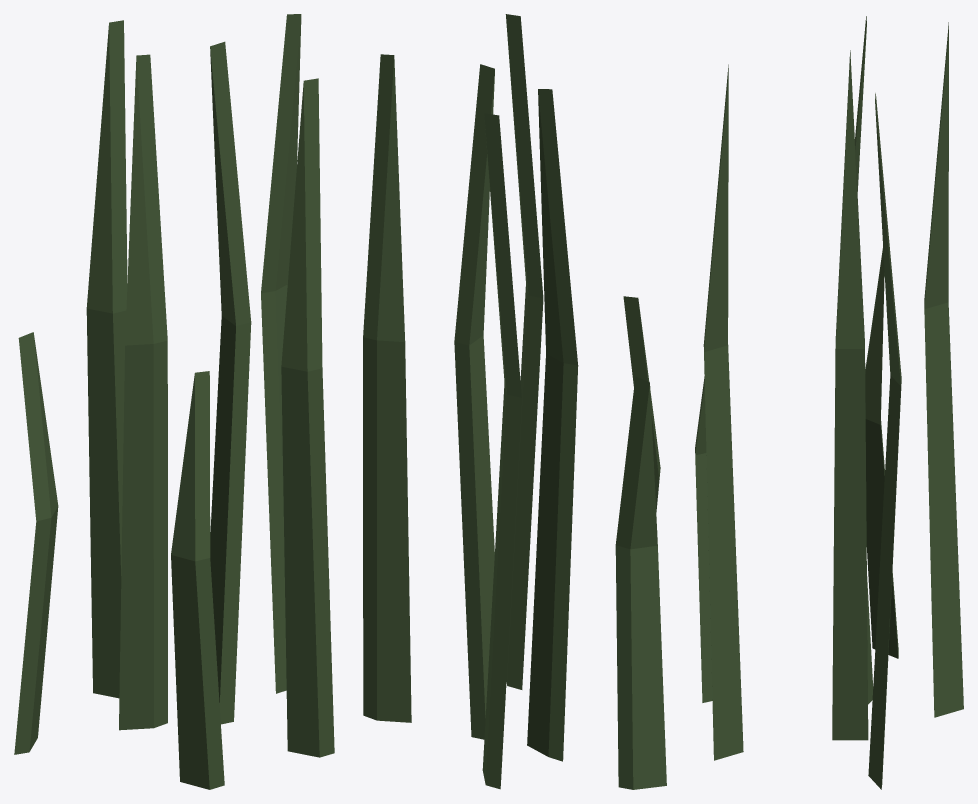
Rendered from grass_3.gltf.
3 renders of one model, left to right at view 1: azimuth 30°, elevation 25°; view 2: azimuth 150°, elevation 25°; view 3: azimuth 270°, elevation 25°, orthographic. The views are drawn at different scales.
Visible parts, largest first — view 1: grass_3; view 2: grass_3; view 3: grass_3.
Boxes of the visible parts, <box> form: grass_3: <box>14,14,334,789</box>; grass_3: <box>363,14,666,789</box>; grass_3: <box>695,16,963,789</box>.
Bounding box in the file's own units: 0.3738 × 0.7952 × 0.2824.
1 material, 1 textured.
